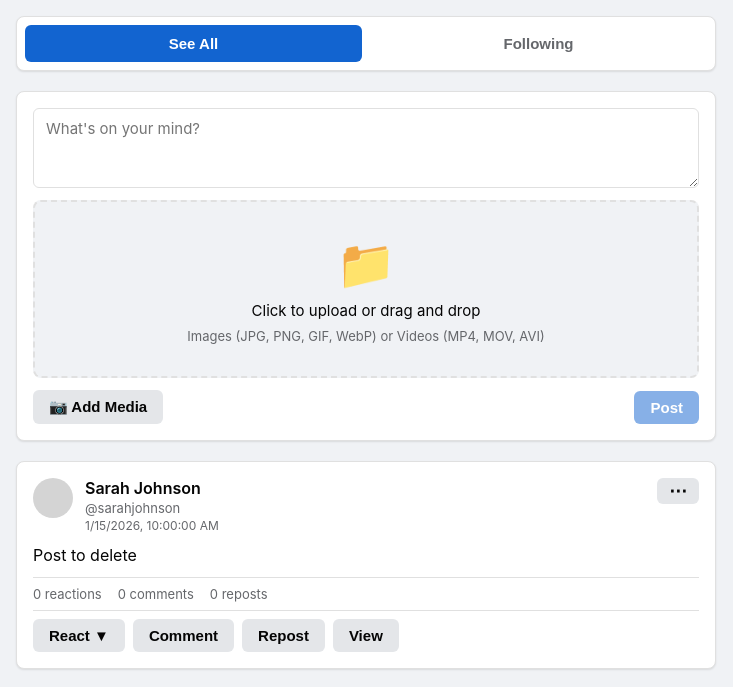
it: Feed Page › removes a deleted post from the feed
Expected: the text "Post to delete" is shown, [33,545,137,565]
Click the button "⋯": (678, 491) [657,478,699,504]
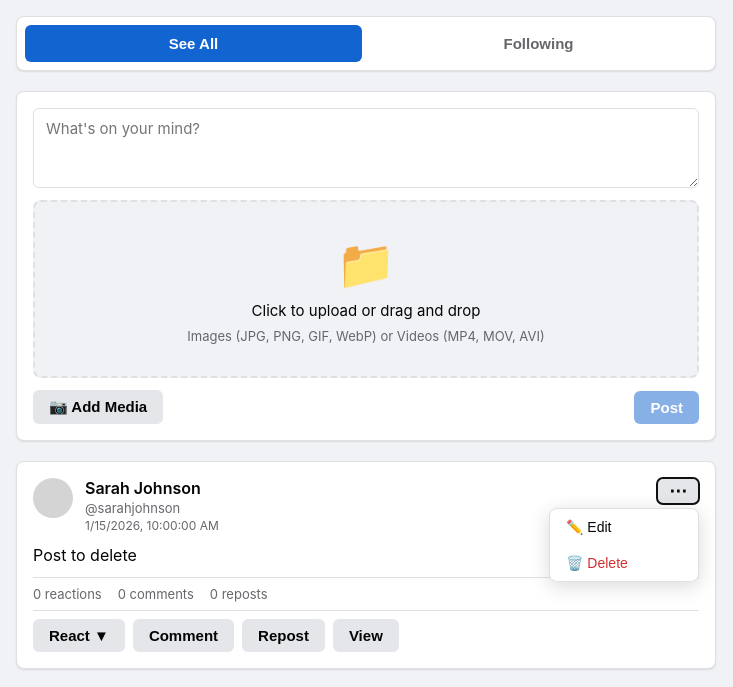
Click the button "🗑️ Delete": (624, 563) [550,545,698,581]
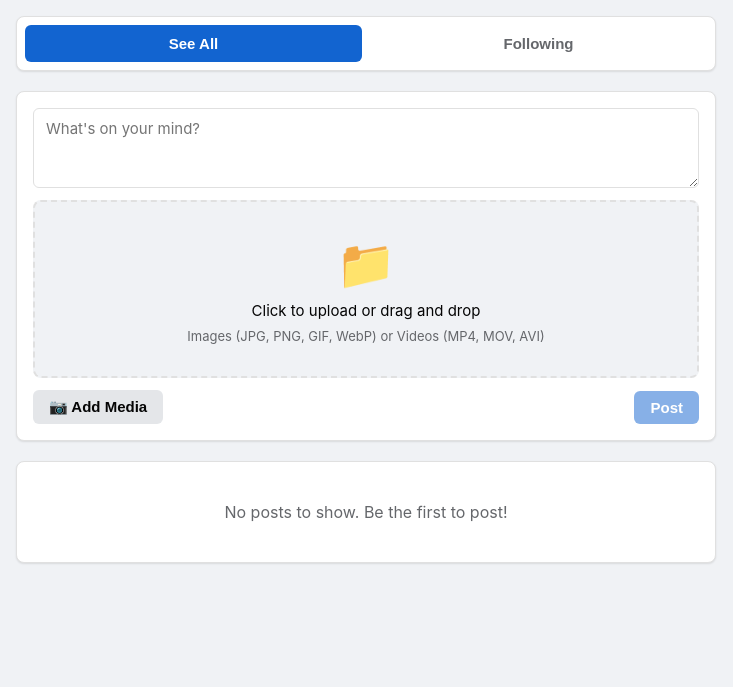
Expected: the text "Post to delete" is gone
